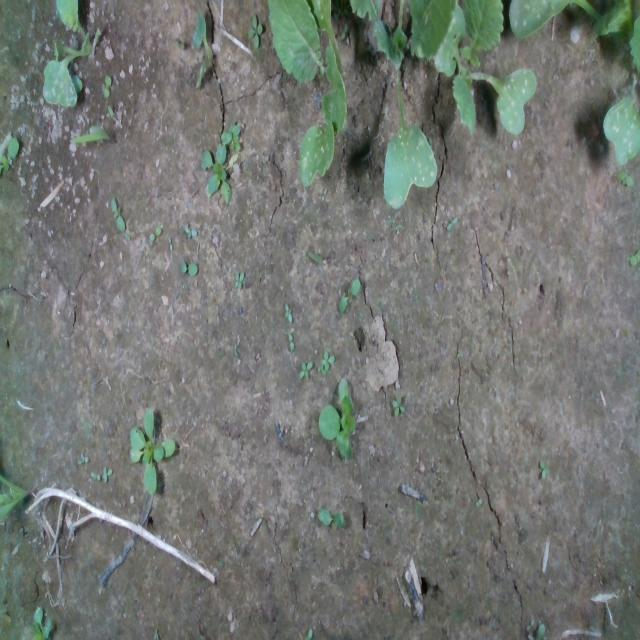weed: (337, 276, 361, 314), (316, 504, 344, 529), (246, 12, 264, 48), (109, 196, 125, 232), (389, 392, 407, 417), (616, 167, 634, 189), (177, 258, 199, 276), (298, 358, 314, 382), (282, 302, 294, 326), (232, 268, 244, 292), (183, 221, 197, 240), (101, 463, 113, 485), (538, 459, 550, 481), (102, 72, 112, 98), (148, 224, 162, 241), (288, 331, 296, 353), (89, 470, 101, 481), (167, 233, 173, 251), (473, 496, 482, 507)
